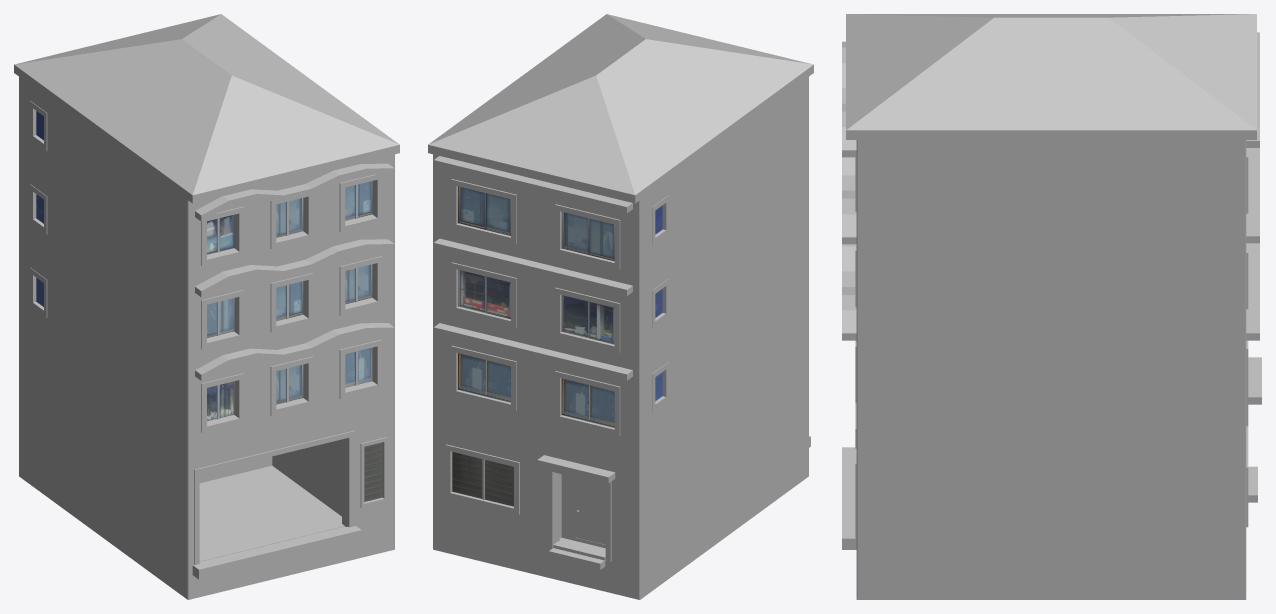
The model's file is bldg_mall_22a.fbx.
The picture shows the model from 3 angles, left to right: view 1: azimuth 30°, elevation 25°; view 2: azimuth 150°, elevation 25°; view 3: azimuth 270°, elevation 25°; orthographic projection. The views are drawn at different scales.
Visible parts, largest first — view 1: bldg_mall_22a; view 2: bldg_mall_22a; view 3: bldg_mall_22a.
Part boxes in pixels (x1,y1,x2,y2): bldg_mall_22a: [14, 14, 399, 599]; bldg_mall_22a: [428, 14, 813, 599]; bldg_mall_22a: [842, 14, 1261, 599].
Bounding box in the file's own units: 7.1 × 14.87 × 10.8.
